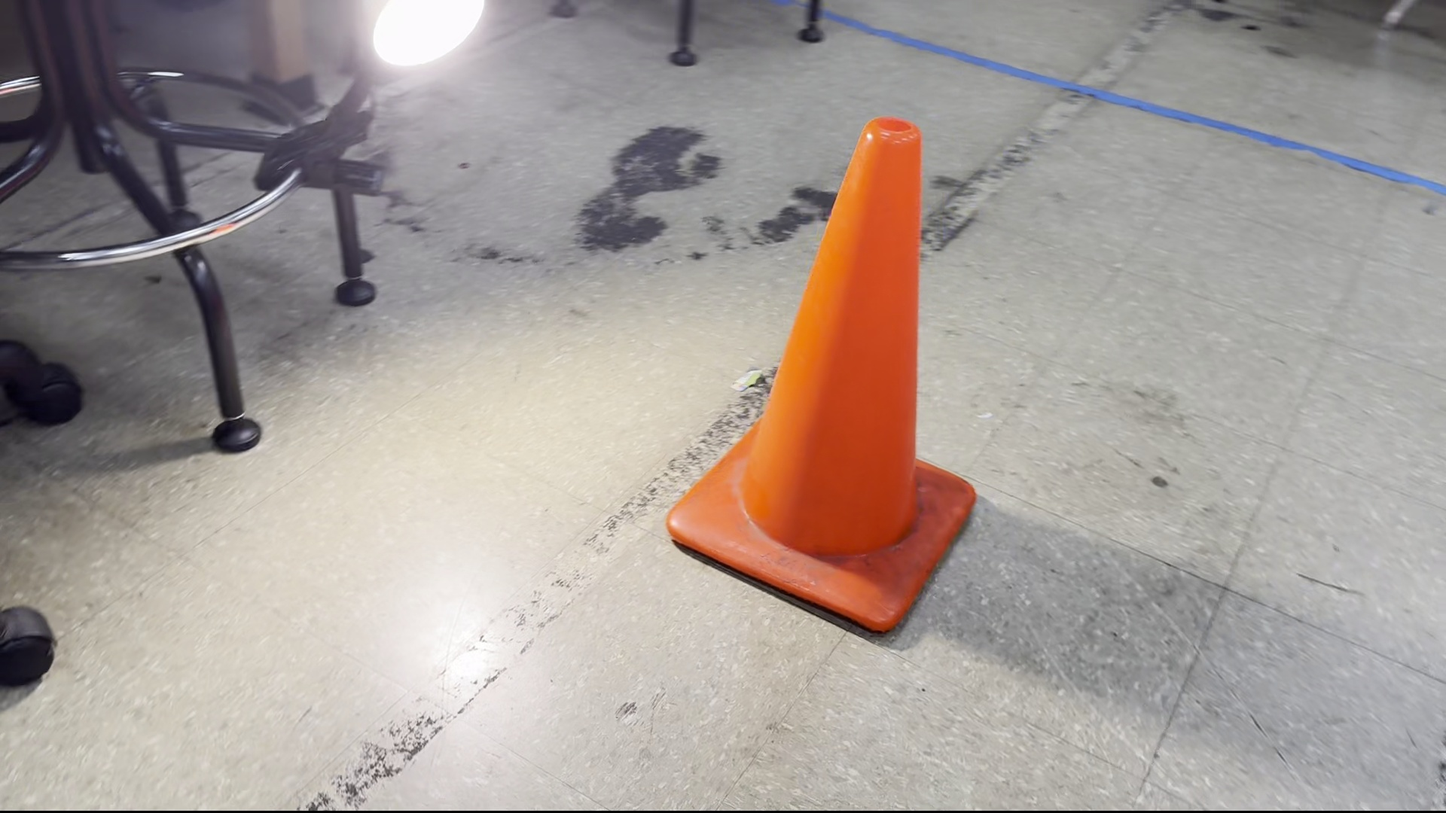traffic_cone: (665, 115, 977, 634)
